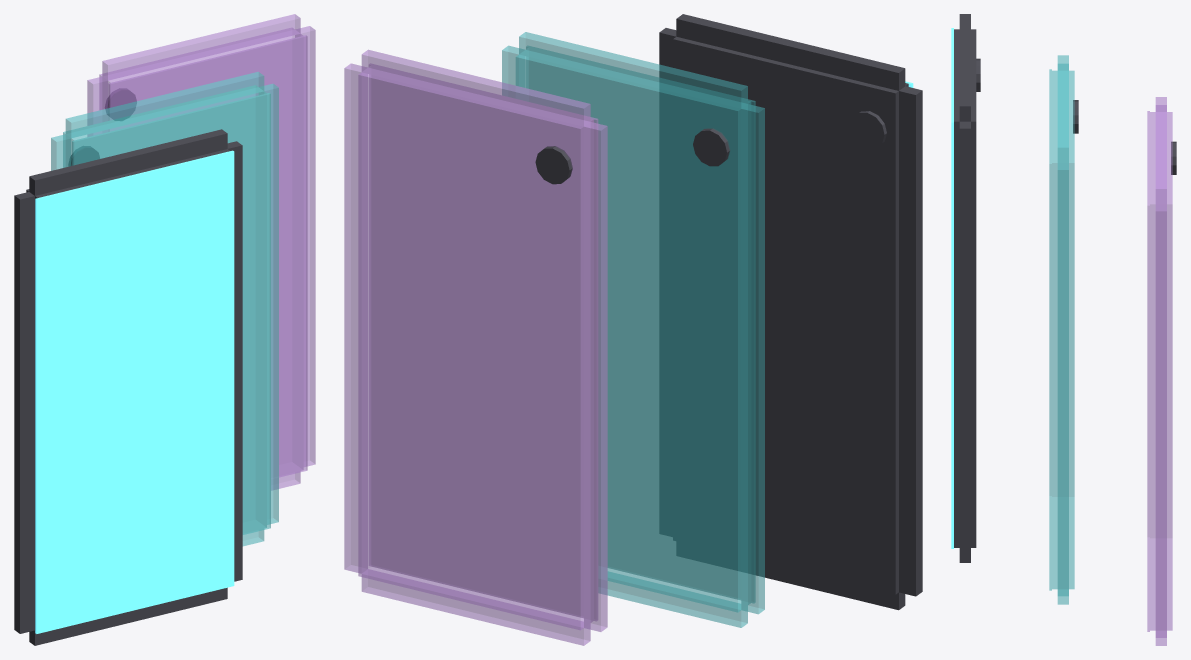
The model's file is quorin.glb.
3 renders of one model, left to right at view 1: azimuth 30°, elevation 25°; view 2: azimuth 150°, elevation 25°; view 3: azimuth 270°, elevation 25°, orthographic. The views are drawn at different scales.
Visible parts, largest first — view 1: Phone_Screen, PhoneG2_Body, PhoneG1_Body, PhoneG2_Screen, Phone_Body, PhoneG1_Screen, PhoneG2_Cam; view 2: PhoneG2_Body, Phone_Body, PhoneG2_Screen, PhoneG1_Body, PhoneG1_Screen, PhoneG1_Cam, PhoneG2_Cam, Phone_Cam; view 3: PhoneG1_Body, Phone_Body, PhoneG2_Body, PhoneG1_Screen, Phone_Screen, PhoneG2_Screen.
Boxes of the visible parts, bbox=[...] form: Phone_Screen: bbox=[35, 150, 234, 633]; PhoneG2_Body: bbox=[87, 14, 315, 490]; PhoneG1_Body: bbox=[51, 72, 278, 546]; PhoneG2_Screen: bbox=[108, 35, 307, 478]; Phone_Body: bbox=[14, 129, 242, 645]; PhoneG1_Screen: bbox=[72, 93, 270, 534]; PhoneG2_Cam: bbox=[105, 89, 136, 120]; PhoneG2_Body: bbox=[344, 49, 607, 645]; Phone_Body: bbox=[659, 14, 922, 610]; PhoneG2_Screen: bbox=[369, 63, 598, 620]; PhoneG1_Body: bbox=[502, 32, 764, 627]; PhoneG1_Screen: bbox=[526, 46, 755, 602]; PhoneG1_Cam: bbox=[693, 128, 730, 166]; PhoneG2_Cam: bbox=[535, 146, 572, 184]; Phone_Cam: bbox=[850, 111, 886, 148]; PhoneG1_Body: bbox=[1052, 55, 1074, 604]; Phone_Body: bbox=[954, 14, 976, 562]; PhoneG2_Body: bbox=[1150, 97, 1172, 645]; PhoneG1_Screen: bbox=[1049, 69, 1051, 590]; Phone_Screen: bbox=[951, 28, 953, 548]; PhoneG2_Screen: bbox=[1147, 111, 1149, 631].
Size of the model in its own units: 1.6 by 1.8 by 0.805.
